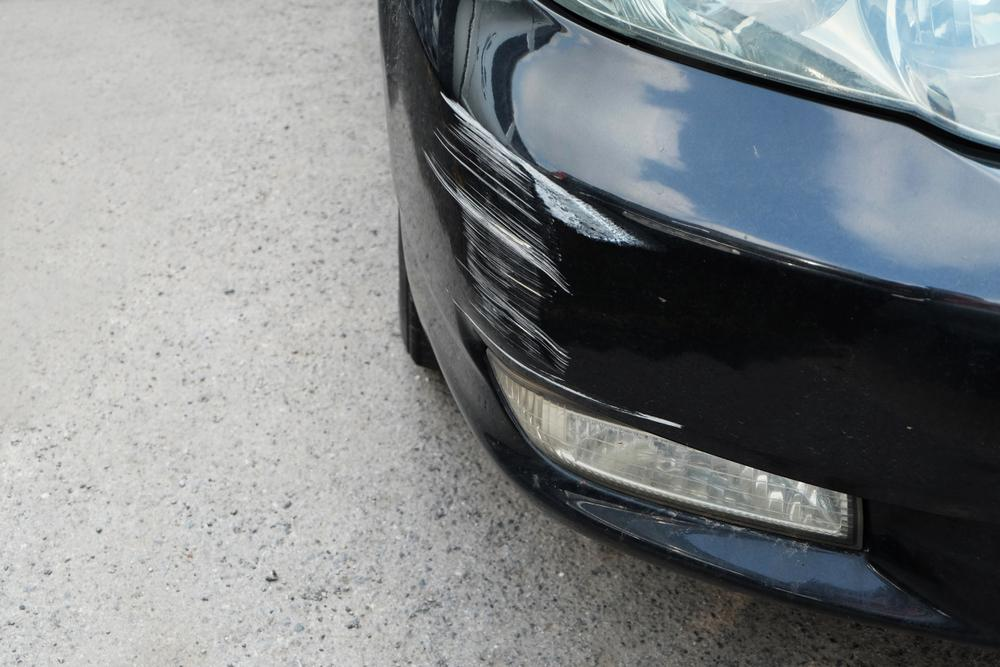scratch: (427, 88, 688, 433)
